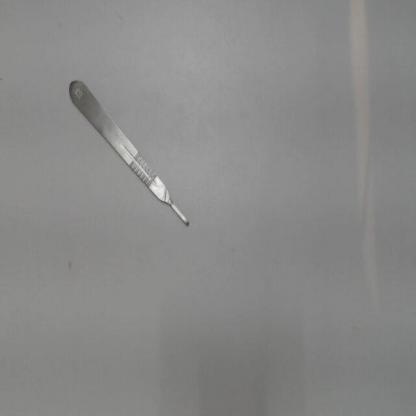No.3 BP Handle: (58, 58, 208, 248)
